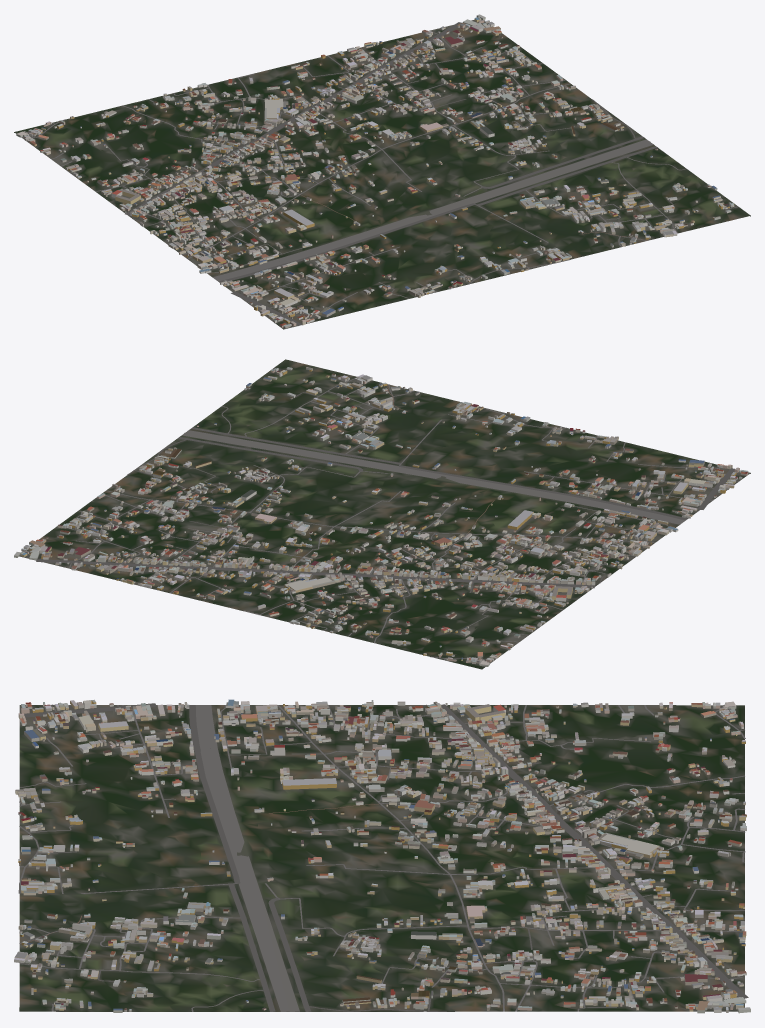
The picture shows the model from 3 angles, top to bottom: view 1: azimuth 30°, elevation 25°; view 2: azimuth 150°, elevation 25°; view 3: azimuth 270°, elevation 25°; orthographic projection. The views are drawn at different scales.
Visible parts, largest first — view 1: ground, buildings, roads; view 2: ground, buildings, roads; view 3: ground, buildings, roads.
Boxes of the visible parts, bbox=[...] form: ground: bbox=[14, 19, 750, 329]; buildings: bbox=[16, 14, 734, 328]; roads: bbox=[22, 22, 738, 325]; ground: bbox=[19, 359, 750, 669]; buildings: bbox=[14, 367, 748, 666]; roads: bbox=[36, 368, 738, 661]; ground: bbox=[19, 705, 744, 1011]; buildings: bbox=[14, 699, 750, 1013]; roads: bbox=[18, 703, 748, 1011].
Bounding box in the file's own units: 1423 × 17.43 × 1423.
